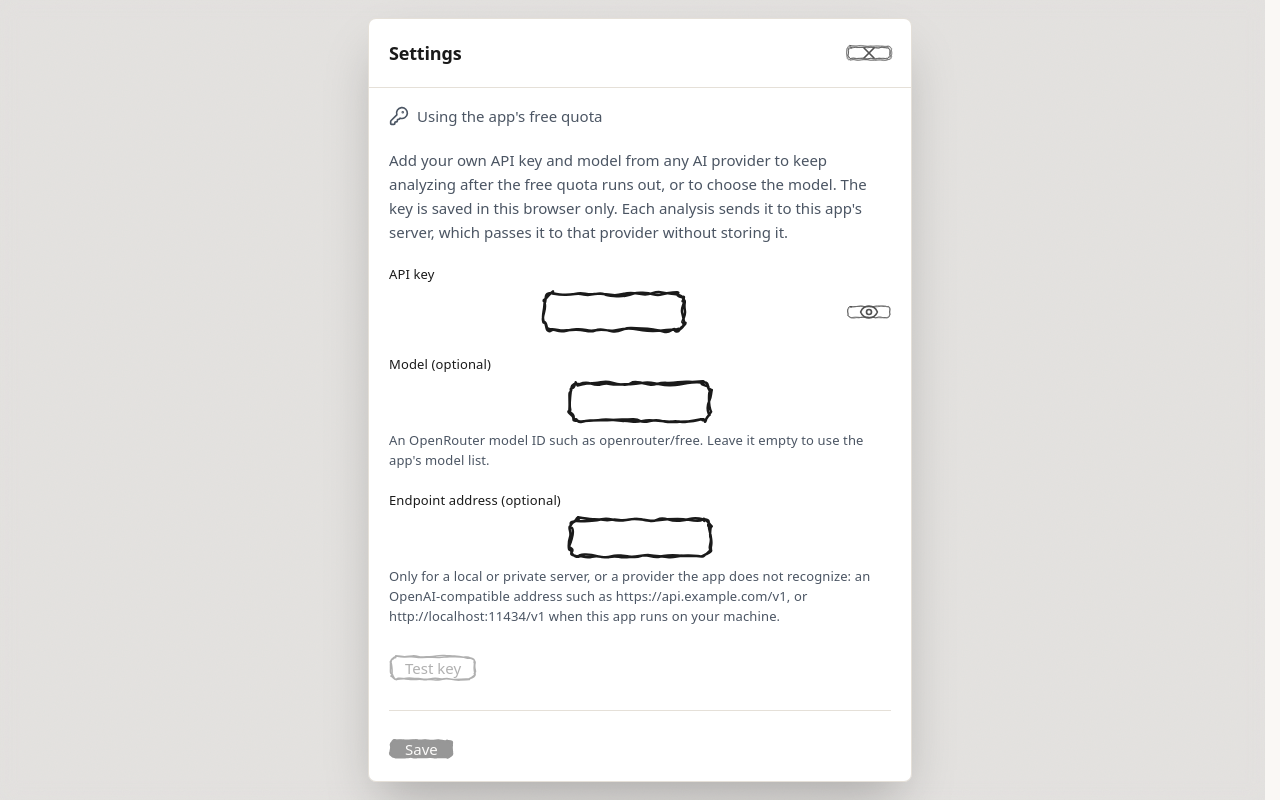
Test case: ByokModal (FEAT-05, StyleGuide §7.3) › tests the typed key with the recognized provider from the browser (T6)
The image size is (1280, 800).
Type "sk-or-v1-test-0000" into the password field labelled "API key" at (614, 312), box x1=389 y1=290 x2=839 y2=334
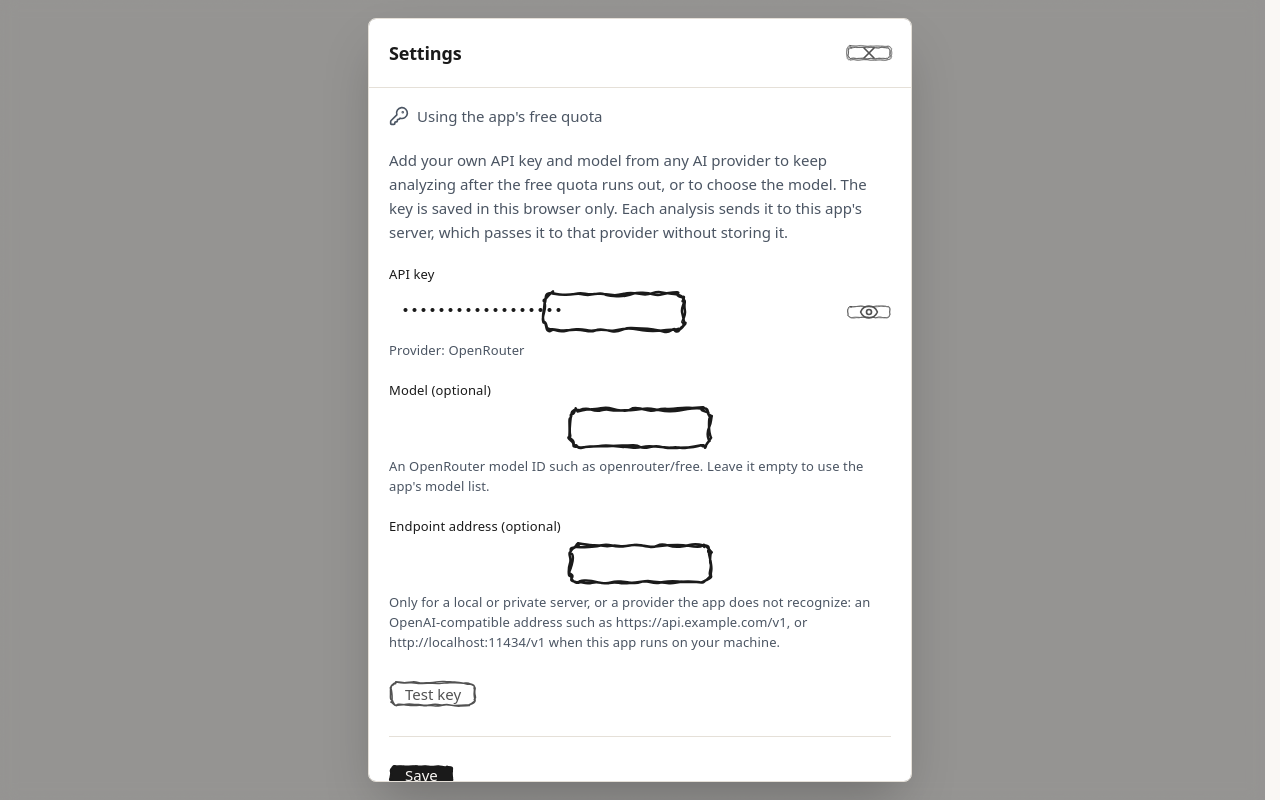
Click the button "Test key" at (433, 694), box x1=389 y1=672 x2=477 y2=716
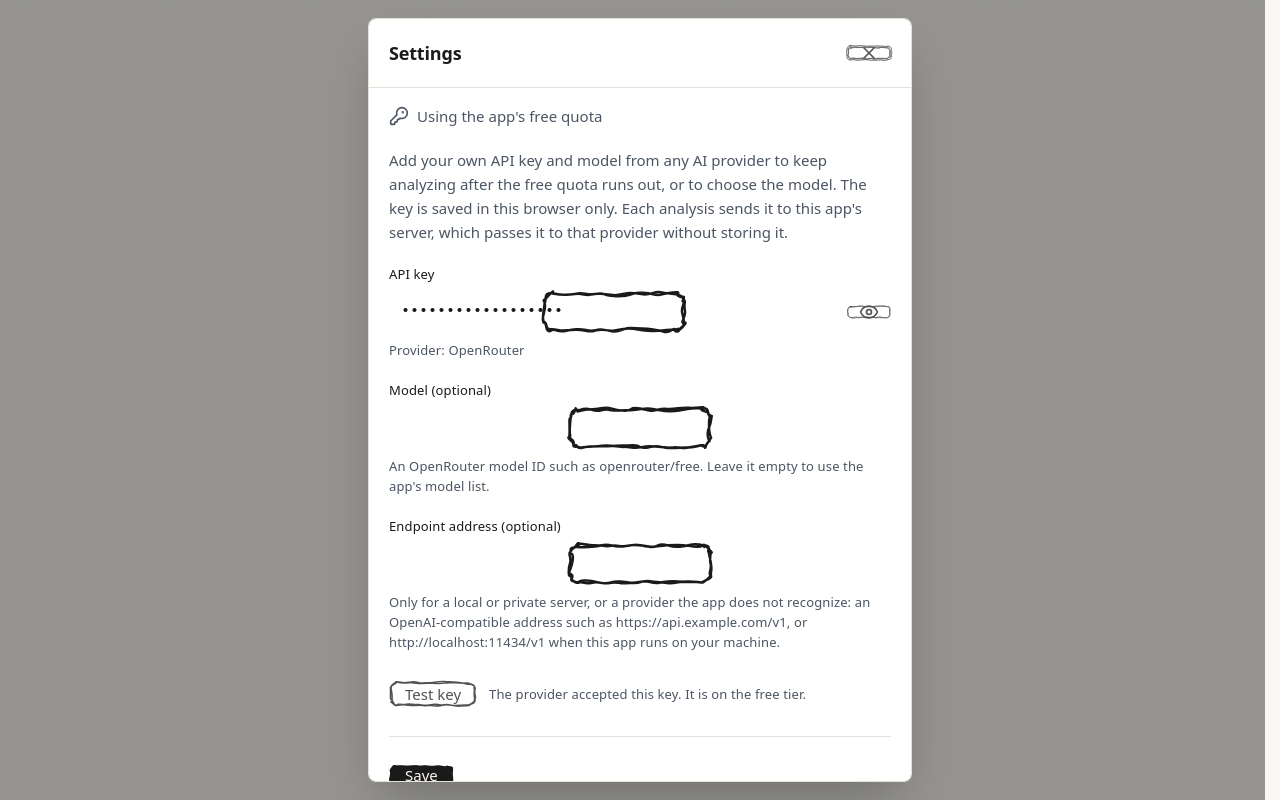
Check: the text "The provider accepted this key. It is on the free tier." is shown, box x1=489 y1=684 x2=806 y2=704
